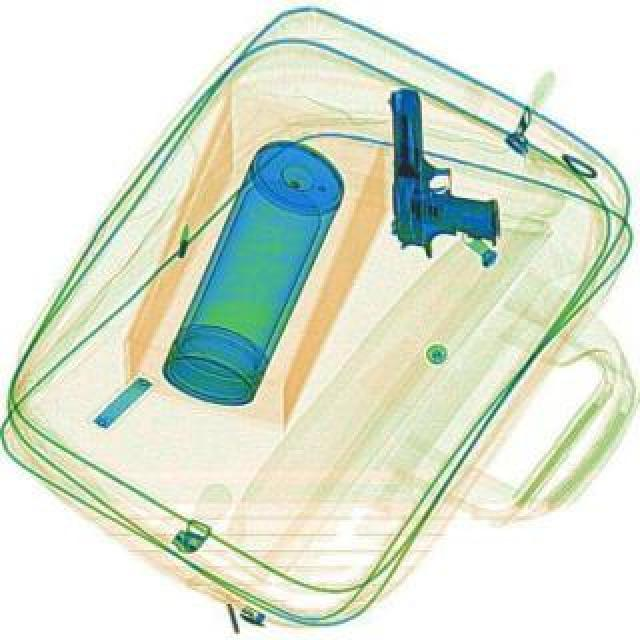gun: (386, 84, 500, 260)
